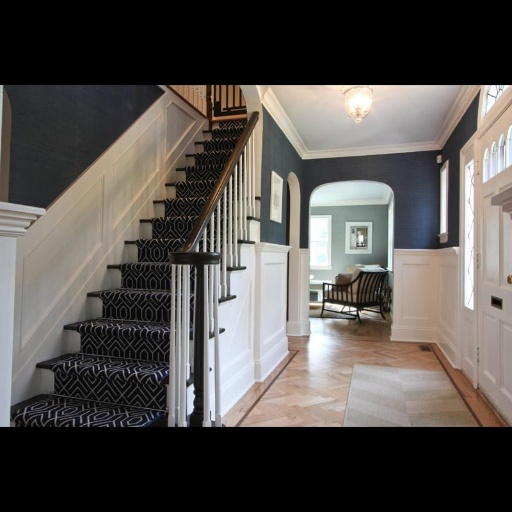Stairs: (12, 119, 246, 426)
